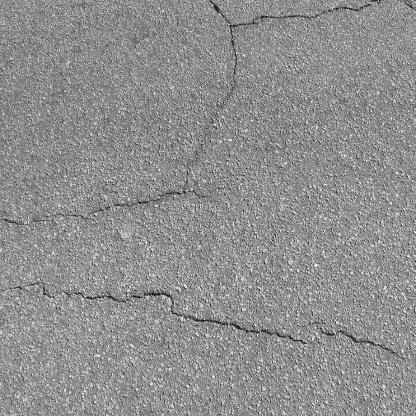Cracks: (2, 0, 416, 231), (0, 278, 407, 364)
